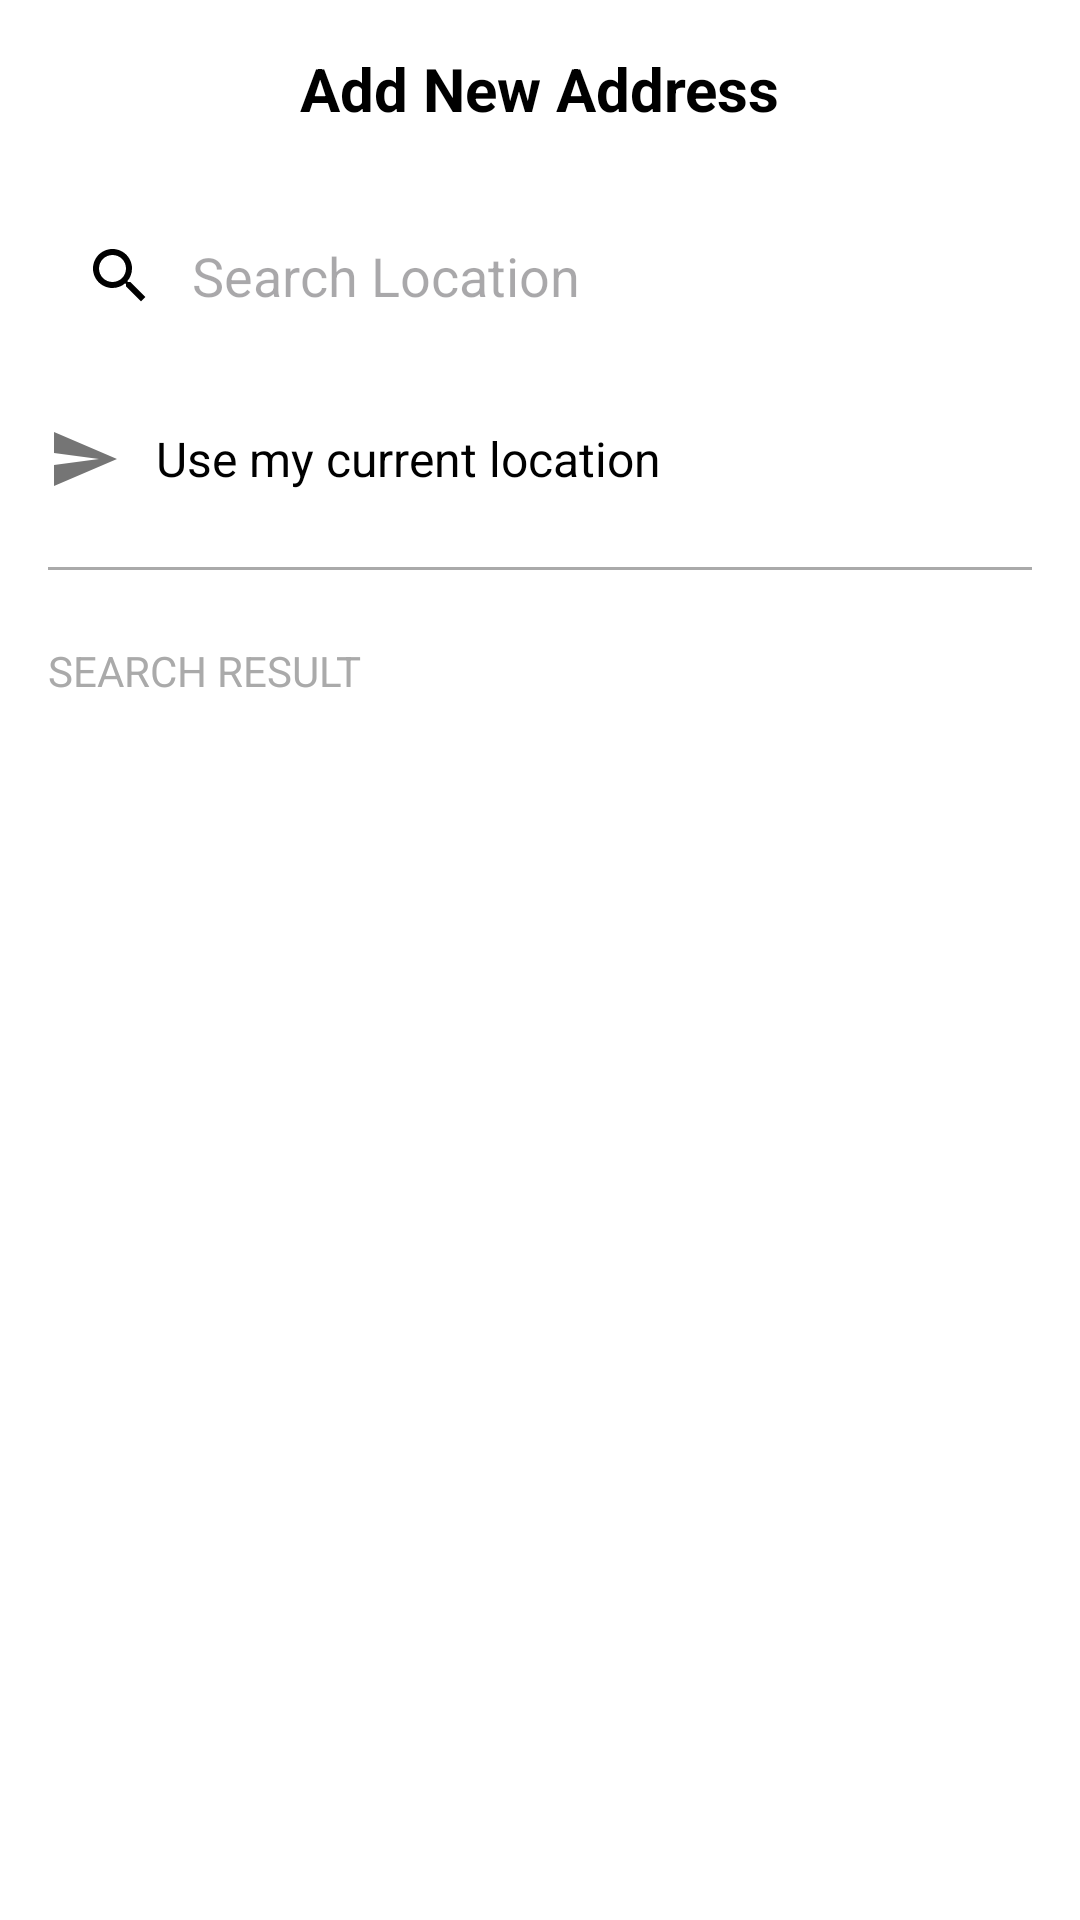

Screen size 1080×1920. Icon name, then its center in pixels as point (x, y):
send: point (85, 459)
